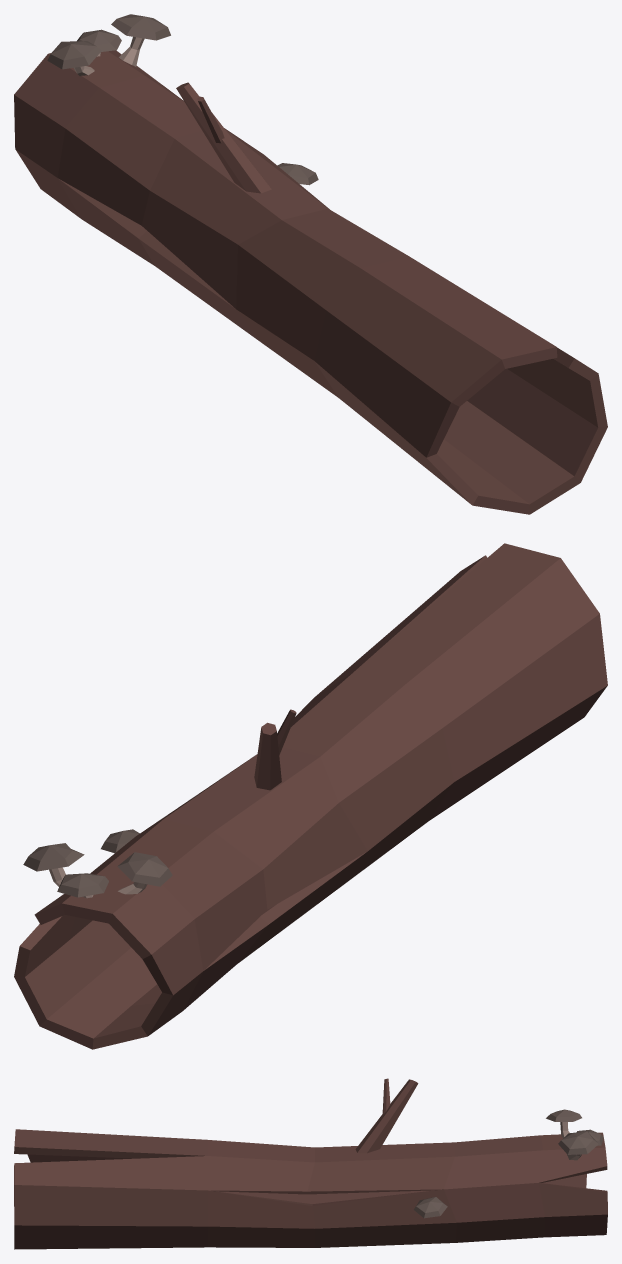
3 views of the same model, one above another, from view 1: azimuth 30°, elevation 25°; view 2: azimuth 150°, elevation 25°; view 3: azimuth 270°, elevation 25° (orthographic). The views are drawn at different scales.
Visible parts, largest first — view 1: WoodLog; view 2: WoodLog; view 3: WoodLog.
Part boxes in pixels (x1,y1,x2,y2): WoodLog: (14,14,607,514); WoodLog: (14,543,607,1049); WoodLog: (14,1078,607,1249).
Size of the model in its own units: 0.6329 by 0.7483 by 2.67.
